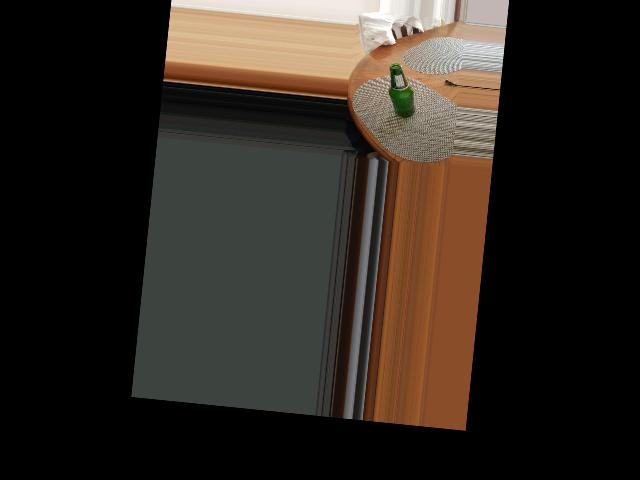beer: (386, 64, 419, 118)
